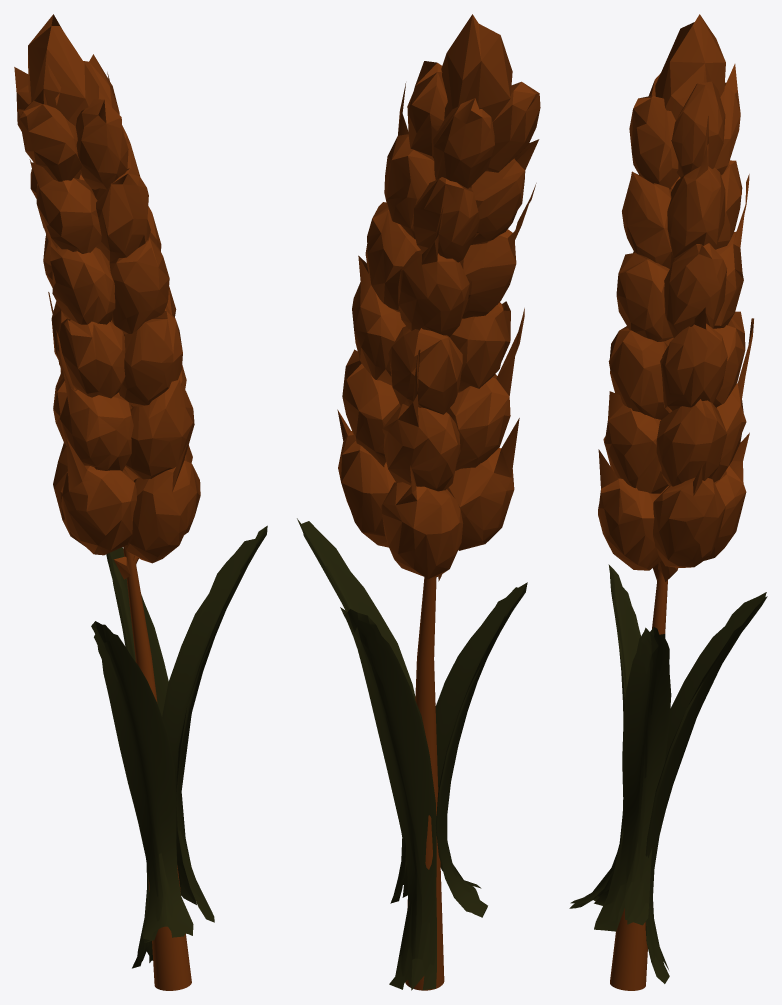
File: maizi.FBX
3 views of the same model, side by side, from view 1: azimuth 30°, elevation 25°; view 2: azimuth 150°, elevation 25°; view 3: azimuth 270°, elevation 25° (orthographic). The views are drawn at different scales.
Visible parts, largest first — view 1: maizi; view 2: maizi; view 3: maizi.
Boxes of the visible parts, left/top/right/bottom form: maizi: left=14, top=14, right=267, bottom=990; maizi: left=297, top=14, right=540, bottom=990; maizi: left=569, top=14, right=767, bottom=990.
Bounding box in the file's own units: 89.97 × 352 × 67.98.
